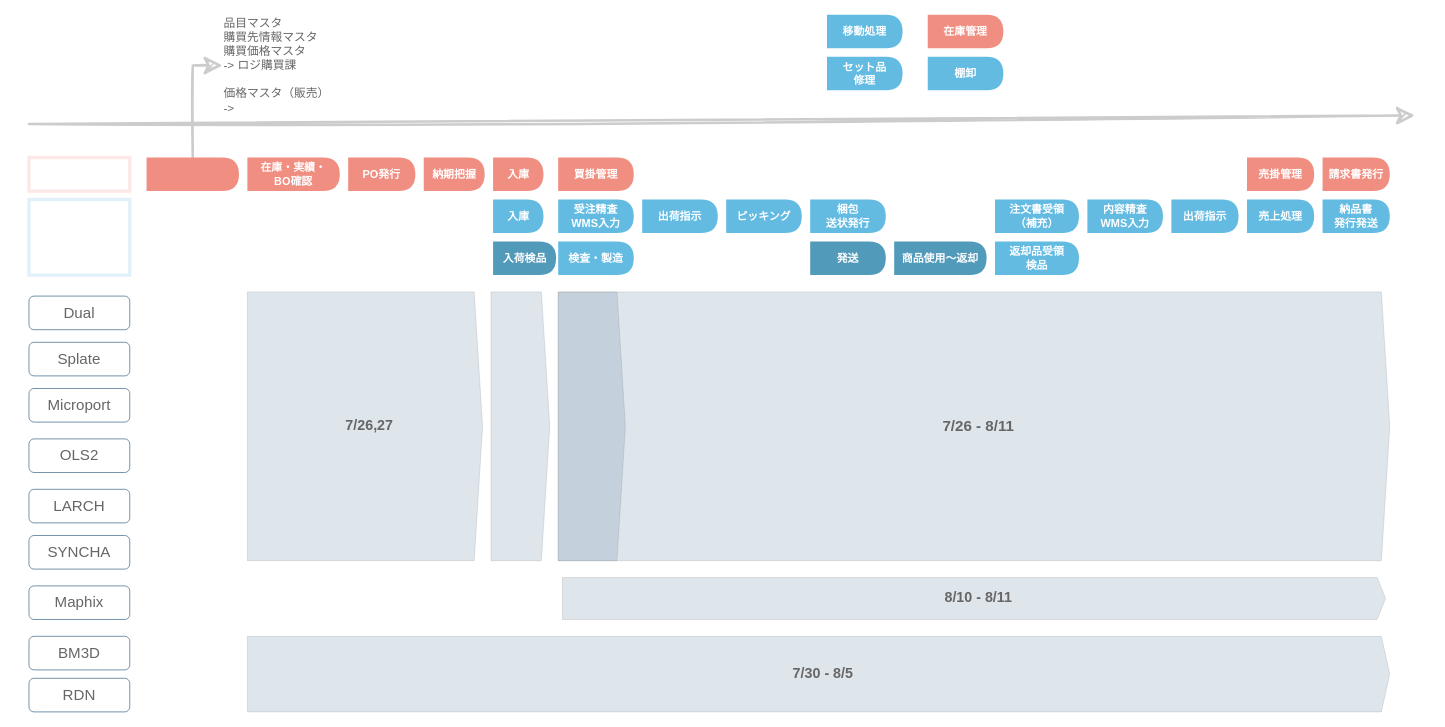
Some shapes in this 1445 by 727 pixel diagram are drawn without their labels. Each missing label, with the box of its shape:
SAP: (27, 155, 131, 192)
WMS: (27, 197, 131, 276)
マスター登録: (146, 157, 239, 191)
ラベル: 8/2: (557, 291, 625, 561)
辻:7/28 佐渡: 8/2: (490, 291, 550, 561)
